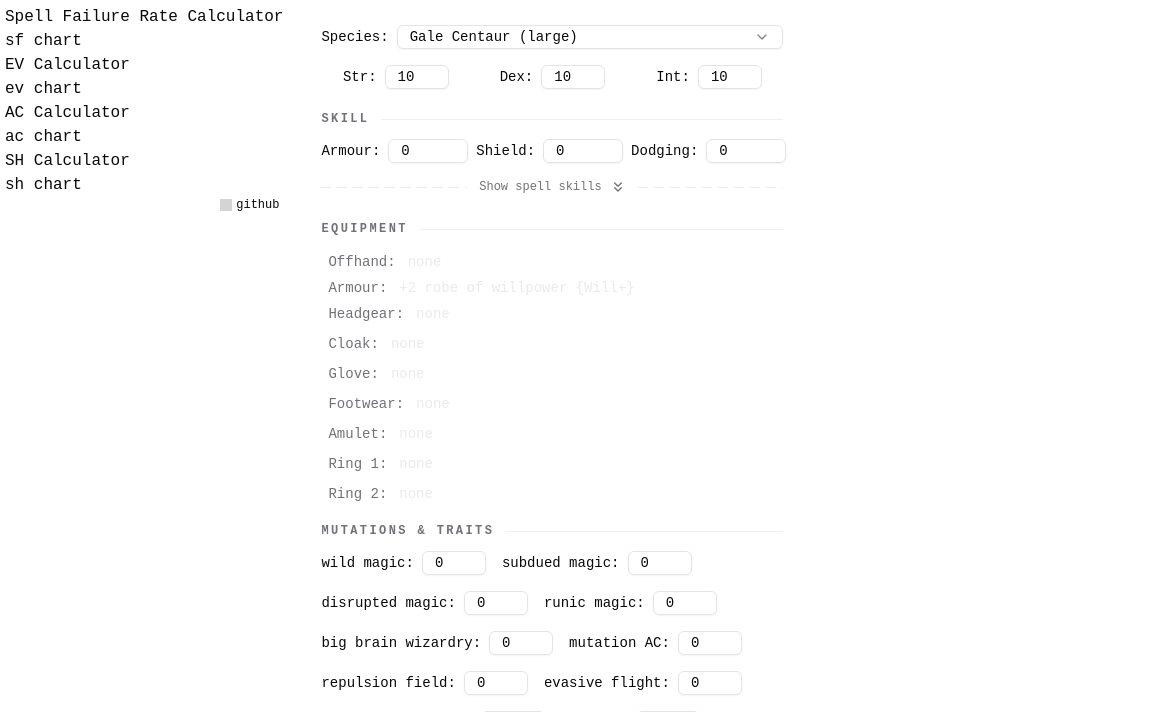
it: Calculator desktop layout › shows parser-aligned body armour ego in the modal
Click the button with test id "equipment-row-body-armour". click: (552, 288)
box: [322,275,784,301]
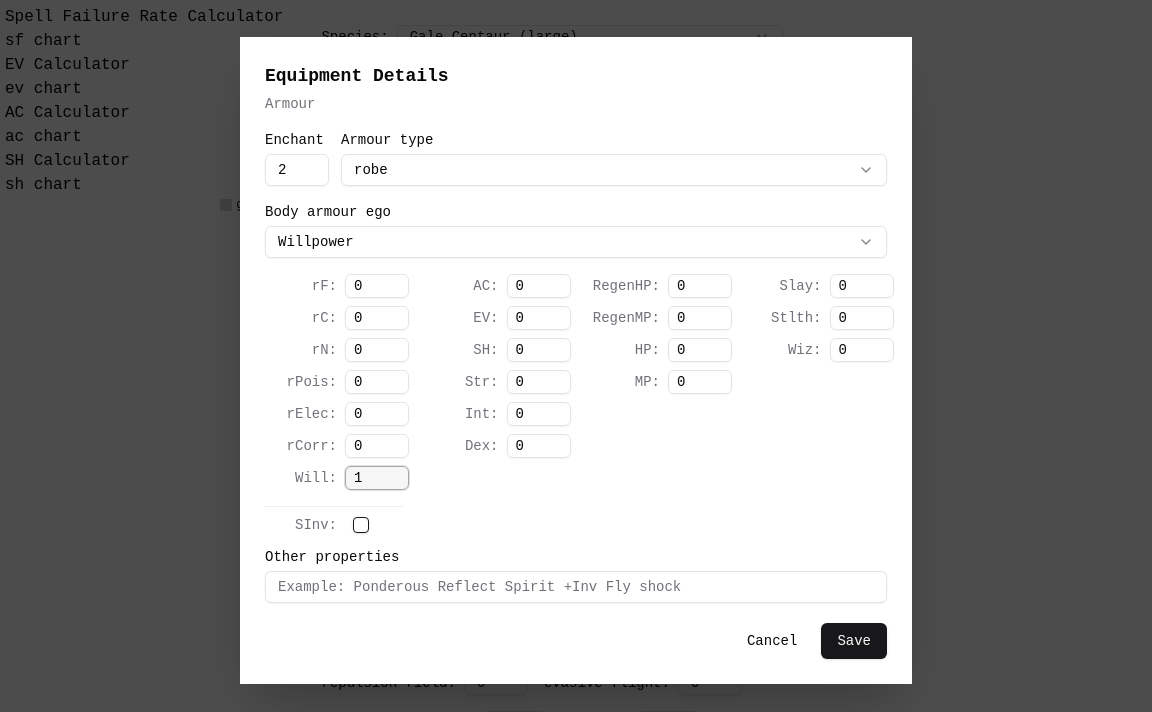
Check: the dropdown named "Body armour ego" reads "Willpower", box [265,226,887,258]
